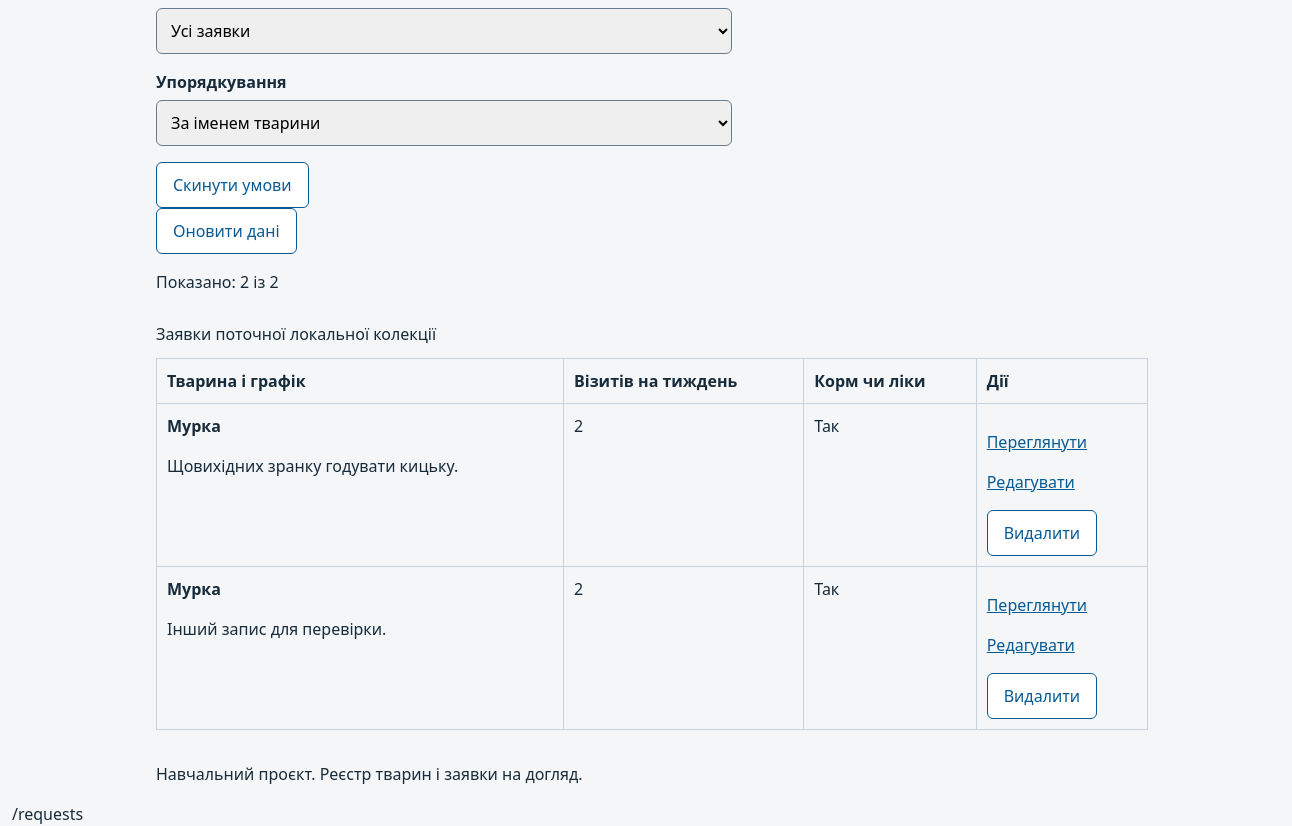
Test case: підтверджене видалення прибирає саме потрібний запис зі списку
(page scrolled)
What coordinates should you click on to do the following:
click the 1st button "Видалити"
I would click on:
 (1042, 533)
Its box is [987,510,1097,556].
(page scrolled)
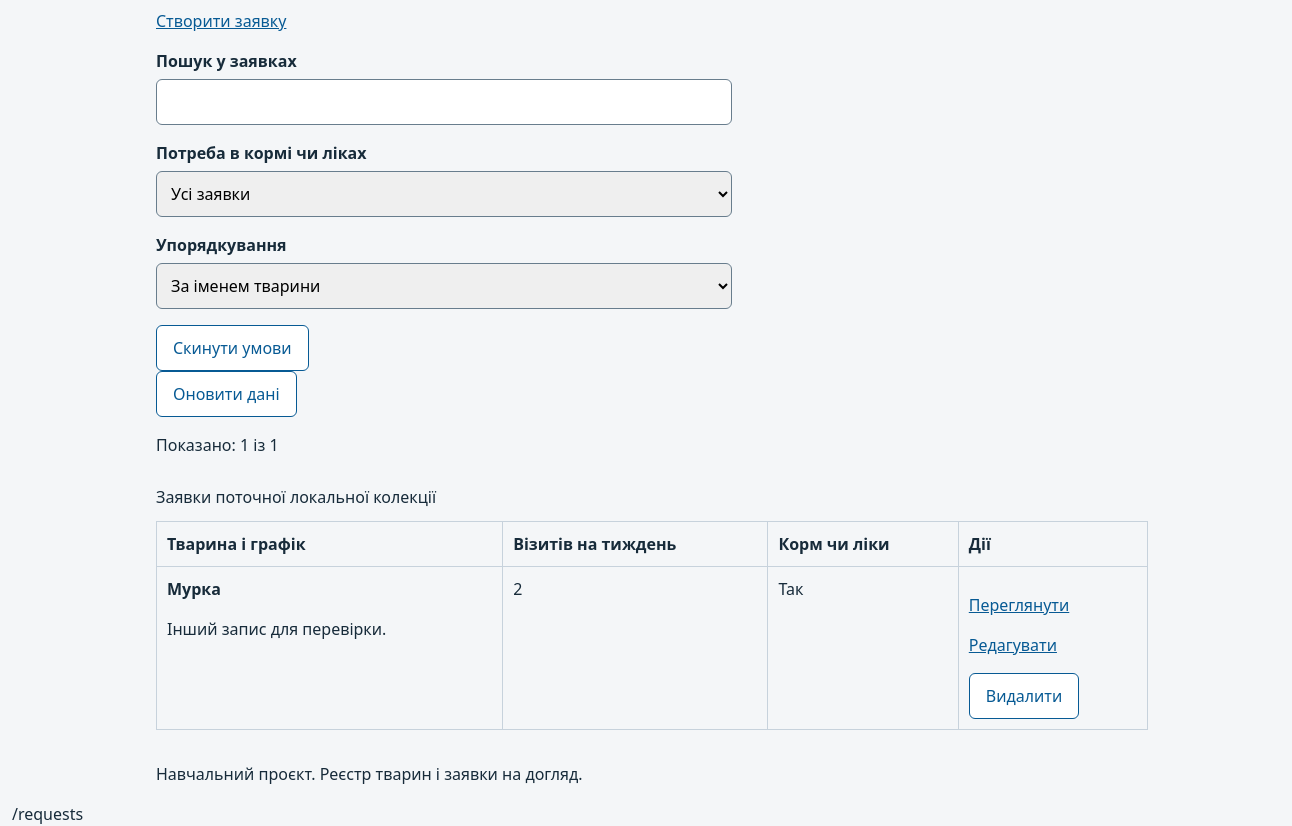
Expected: the text "Інший запис для перевірки." is shown, [167,618,386,640]
Now the text "Щовихідних зранку годувати кицьку." is gone
